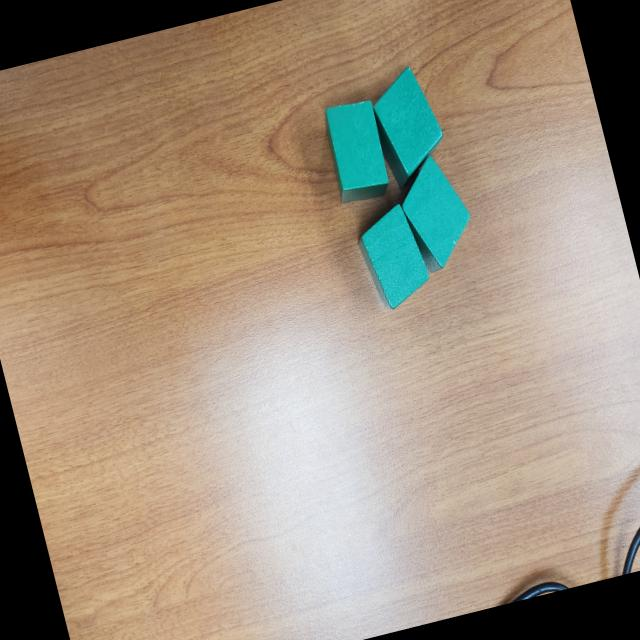green: (364, 59, 455, 192), (390, 146, 482, 276), (350, 200, 436, 313), (318, 94, 397, 207)
